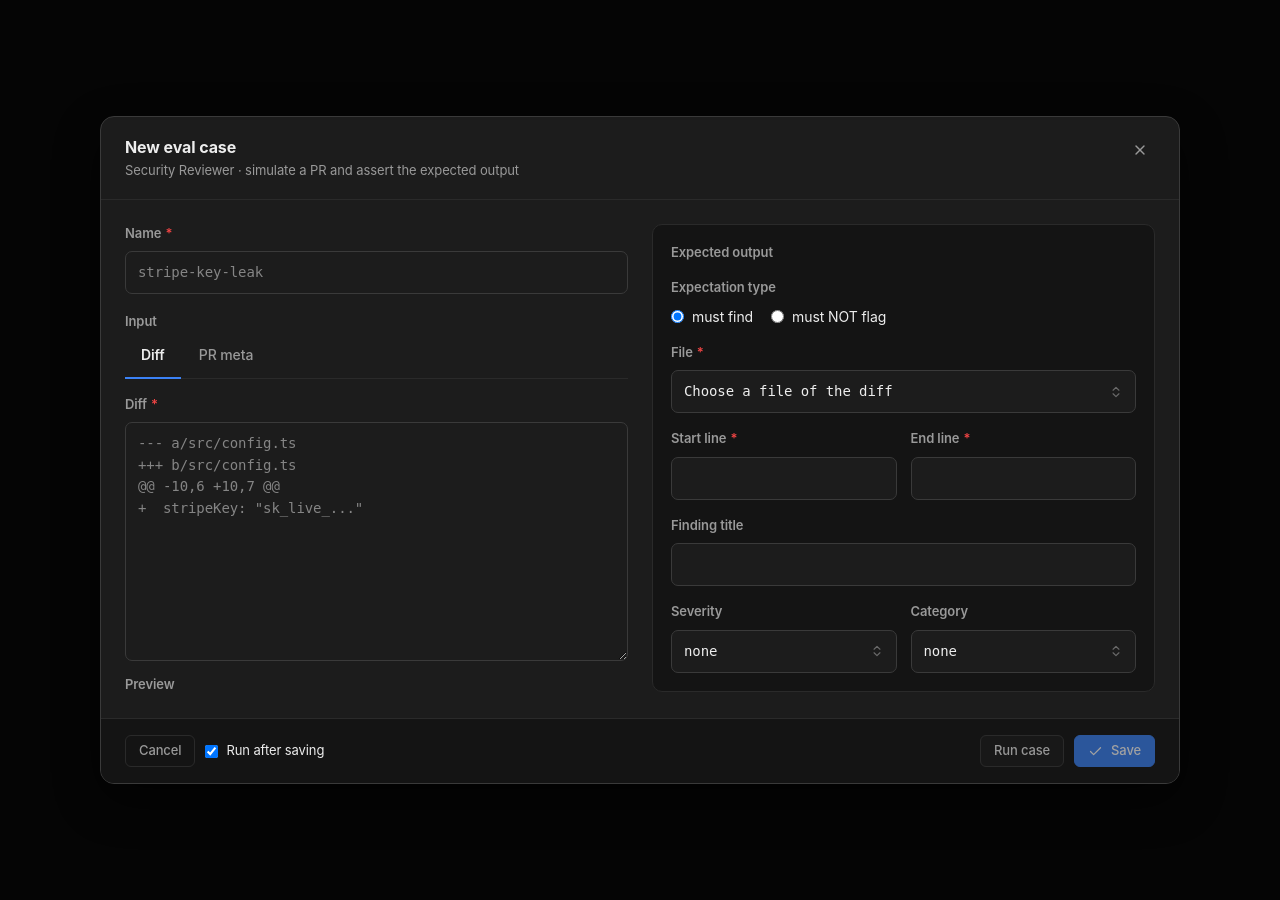
Scenario: CaseEditorDialog — preview › says a prose text is not a diff and renders no file card
Step 1. Replace the text in the text box labelled "Diff*" with "just some words" → (376, 541), box left=125, top=422, right=628, bottom=661
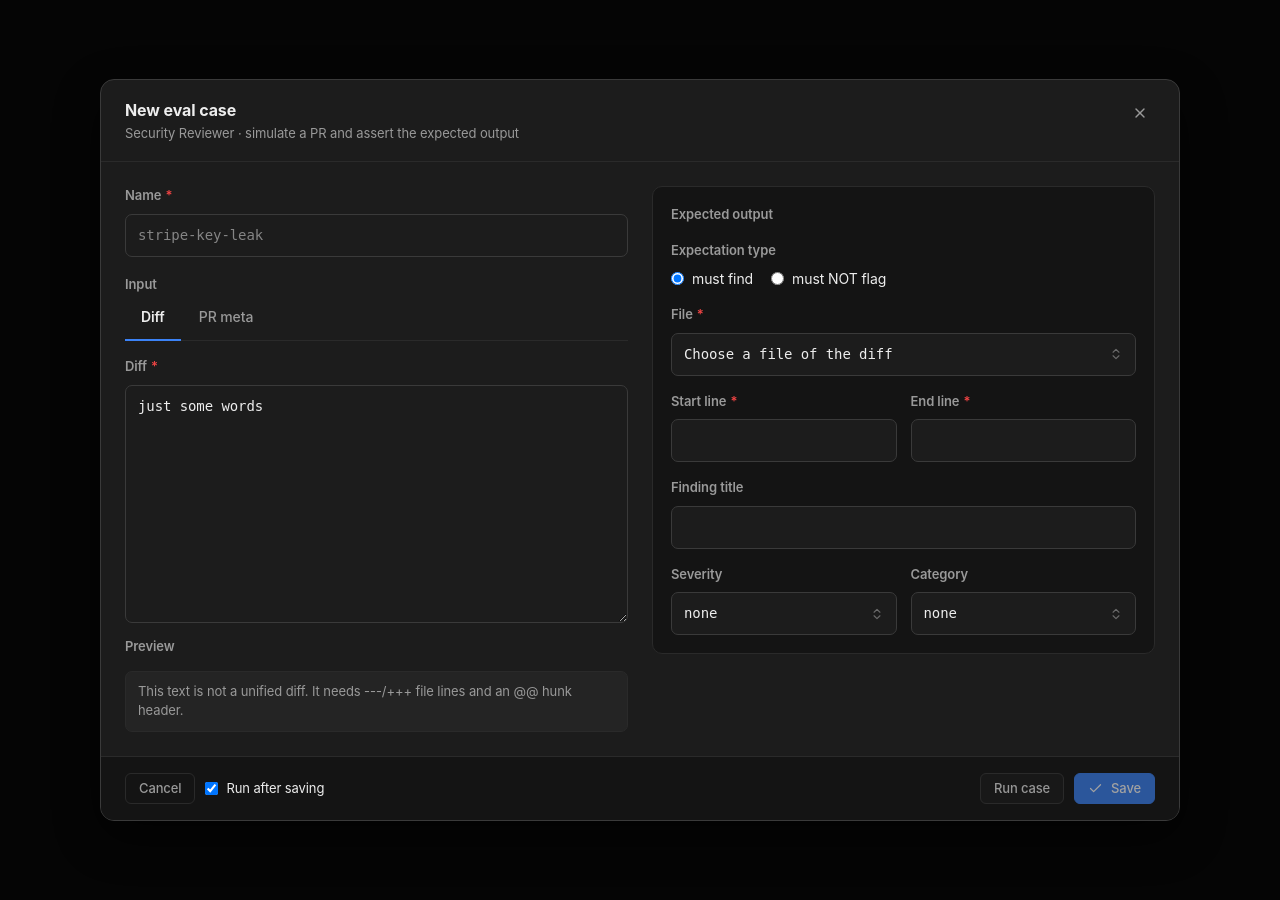
Check: the text "not a unified diff" is shown, box left=138, top=683, right=572, bottom=718
